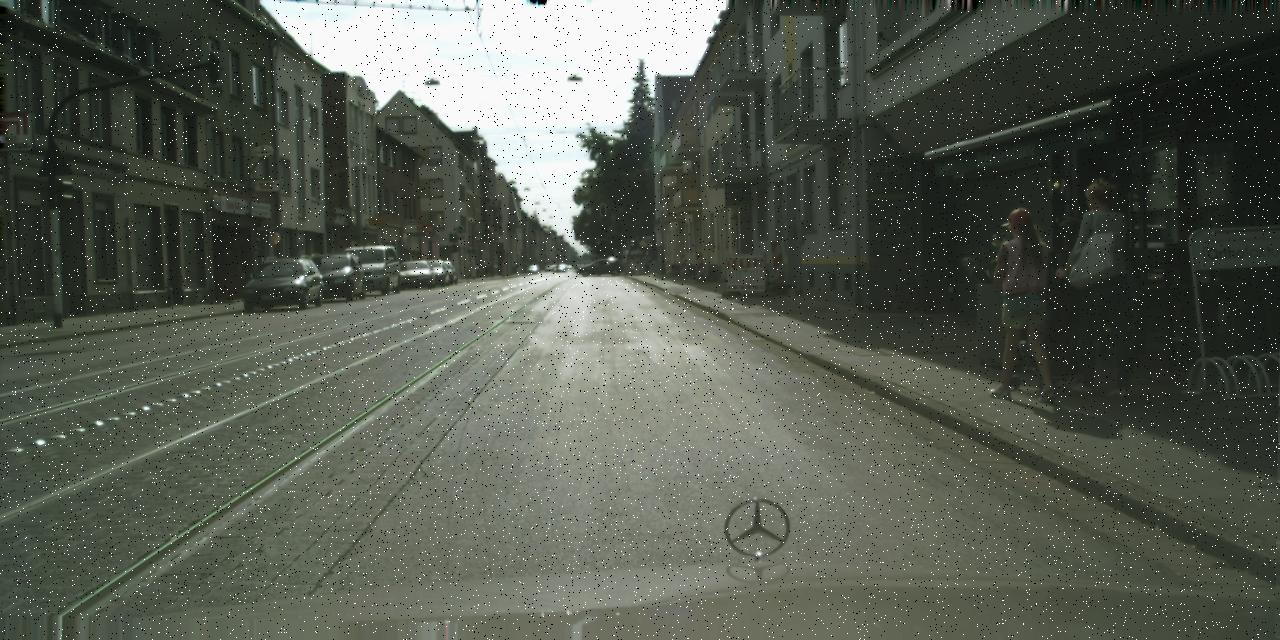ped: (1057, 180, 1142, 391), (984, 207, 1061, 397), (641, 253, 650, 275), (633, 253, 641, 274), (484, 262, 494, 278)
